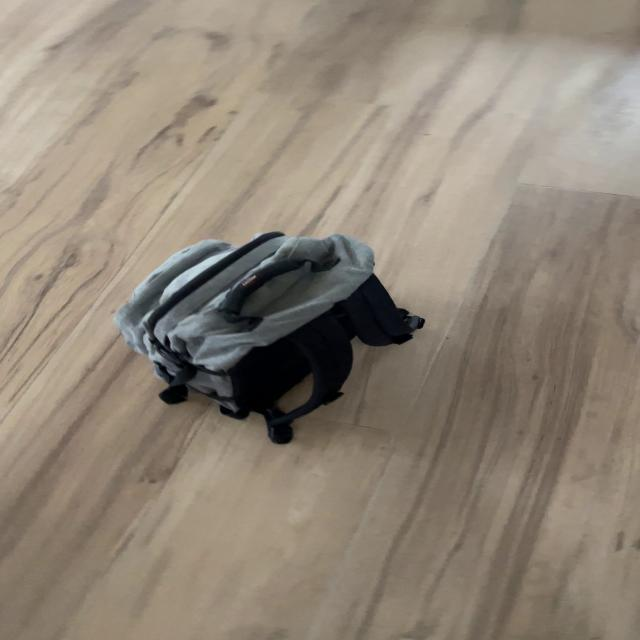backpack: (103, 220, 427, 442)
